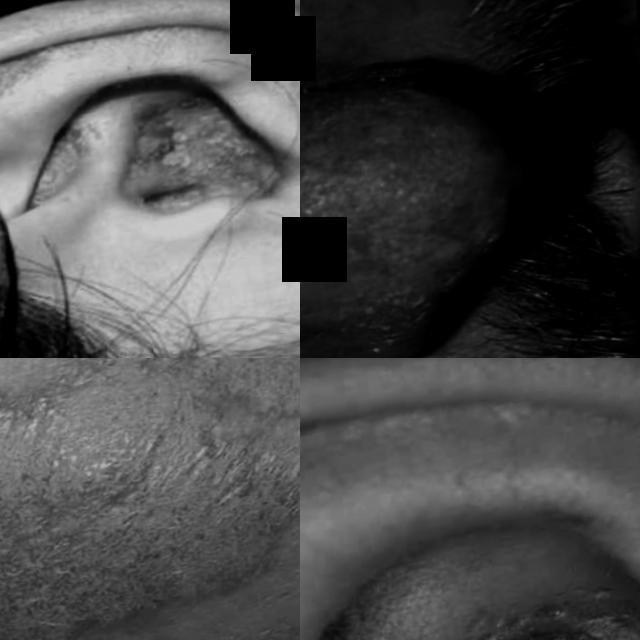lupus-detected: (300, 0, 583, 335), (0, 358, 300, 640), (100, 0, 300, 294), (408, 412, 640, 640), (300, 557, 469, 640)
